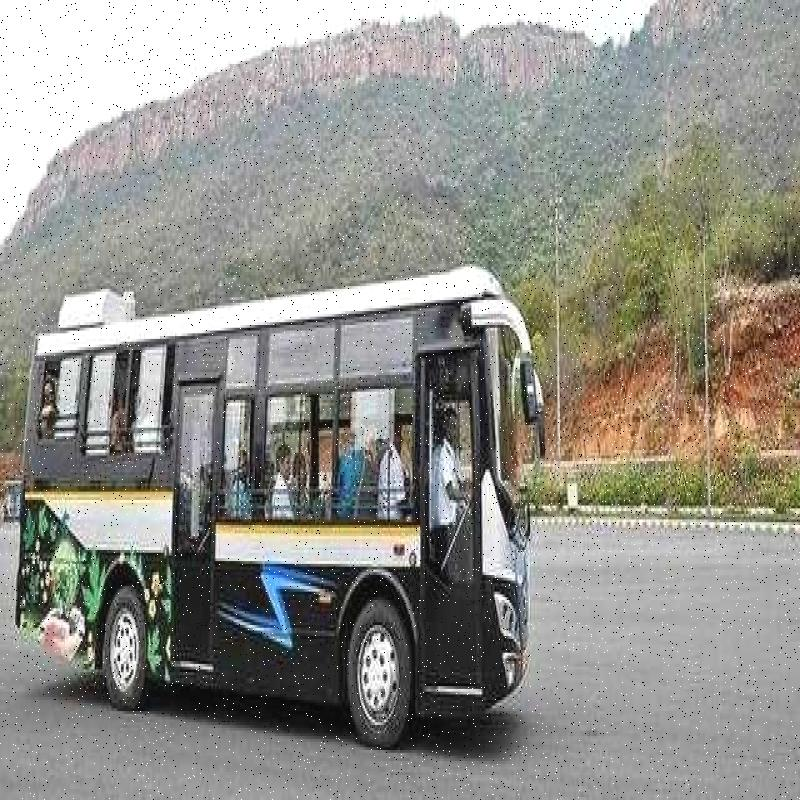bus: (9, 150, 547, 744)
